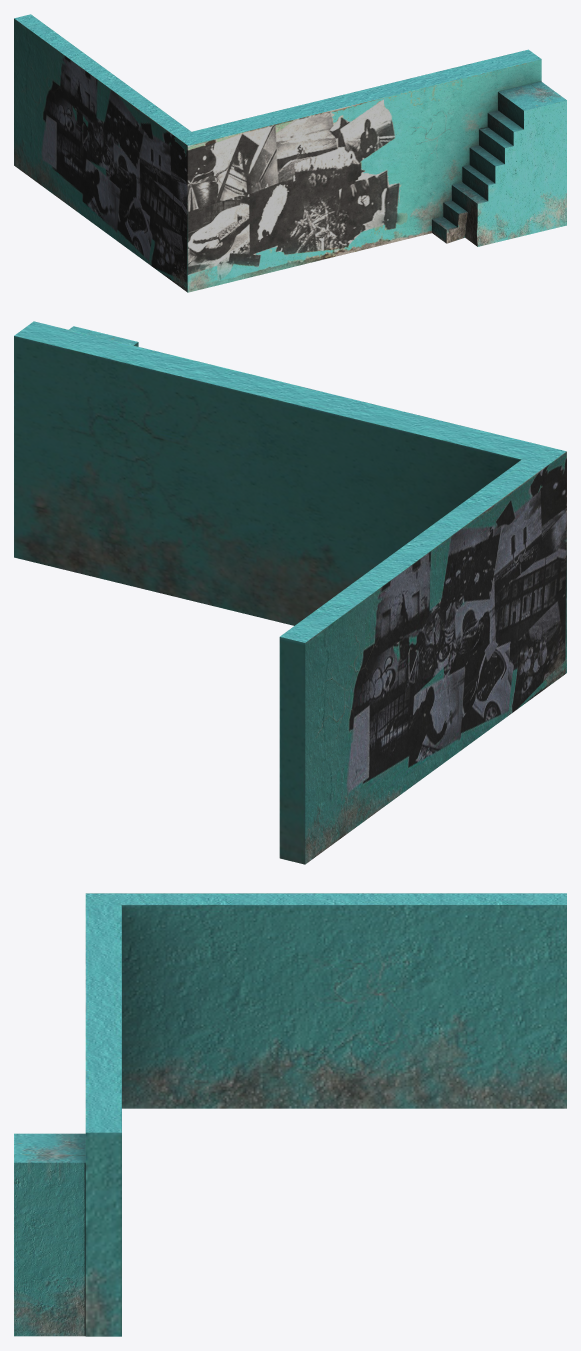
File: Serj-KK.fbx
3 views of the same model, one above another, from view 1: azimuth 30°, elevation 25°; view 2: azimuth 150°, elevation 25°; view 3: azimuth 270°, elevation 25° (orthographic). The views are drawn at different scales.
Visible parts, largest first — view 1: Serj-KK; view 2: Serj-KK; view 3: Serj-KK.
Boxes of the visible parts, bbox=[...] form: Serj-KK: bbox=[14, 14, 566, 292]; Serj-KK: bbox=[14, 321, 566, 864]; Serj-KK: bbox=[14, 893, 566, 1336].
Size of the model in its own units: 64.96 by 25.82 by 63.46.
